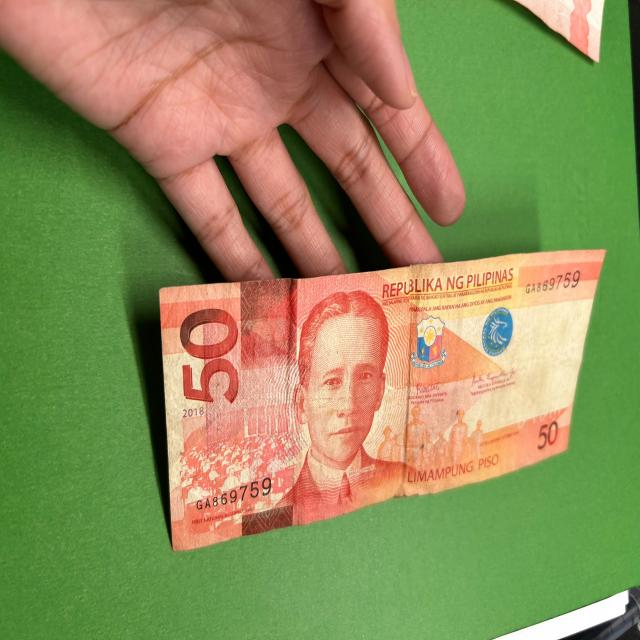concealed_value: (240, 280, 298, 364)
security_thread: (397, 266, 420, 502)
see_through_mark: (516, 404, 570, 426)
serial_number: (192, 476, 278, 512), (518, 268, 584, 298)
value: (177, 304, 240, 411)
watermark: (524, 314, 577, 404)
